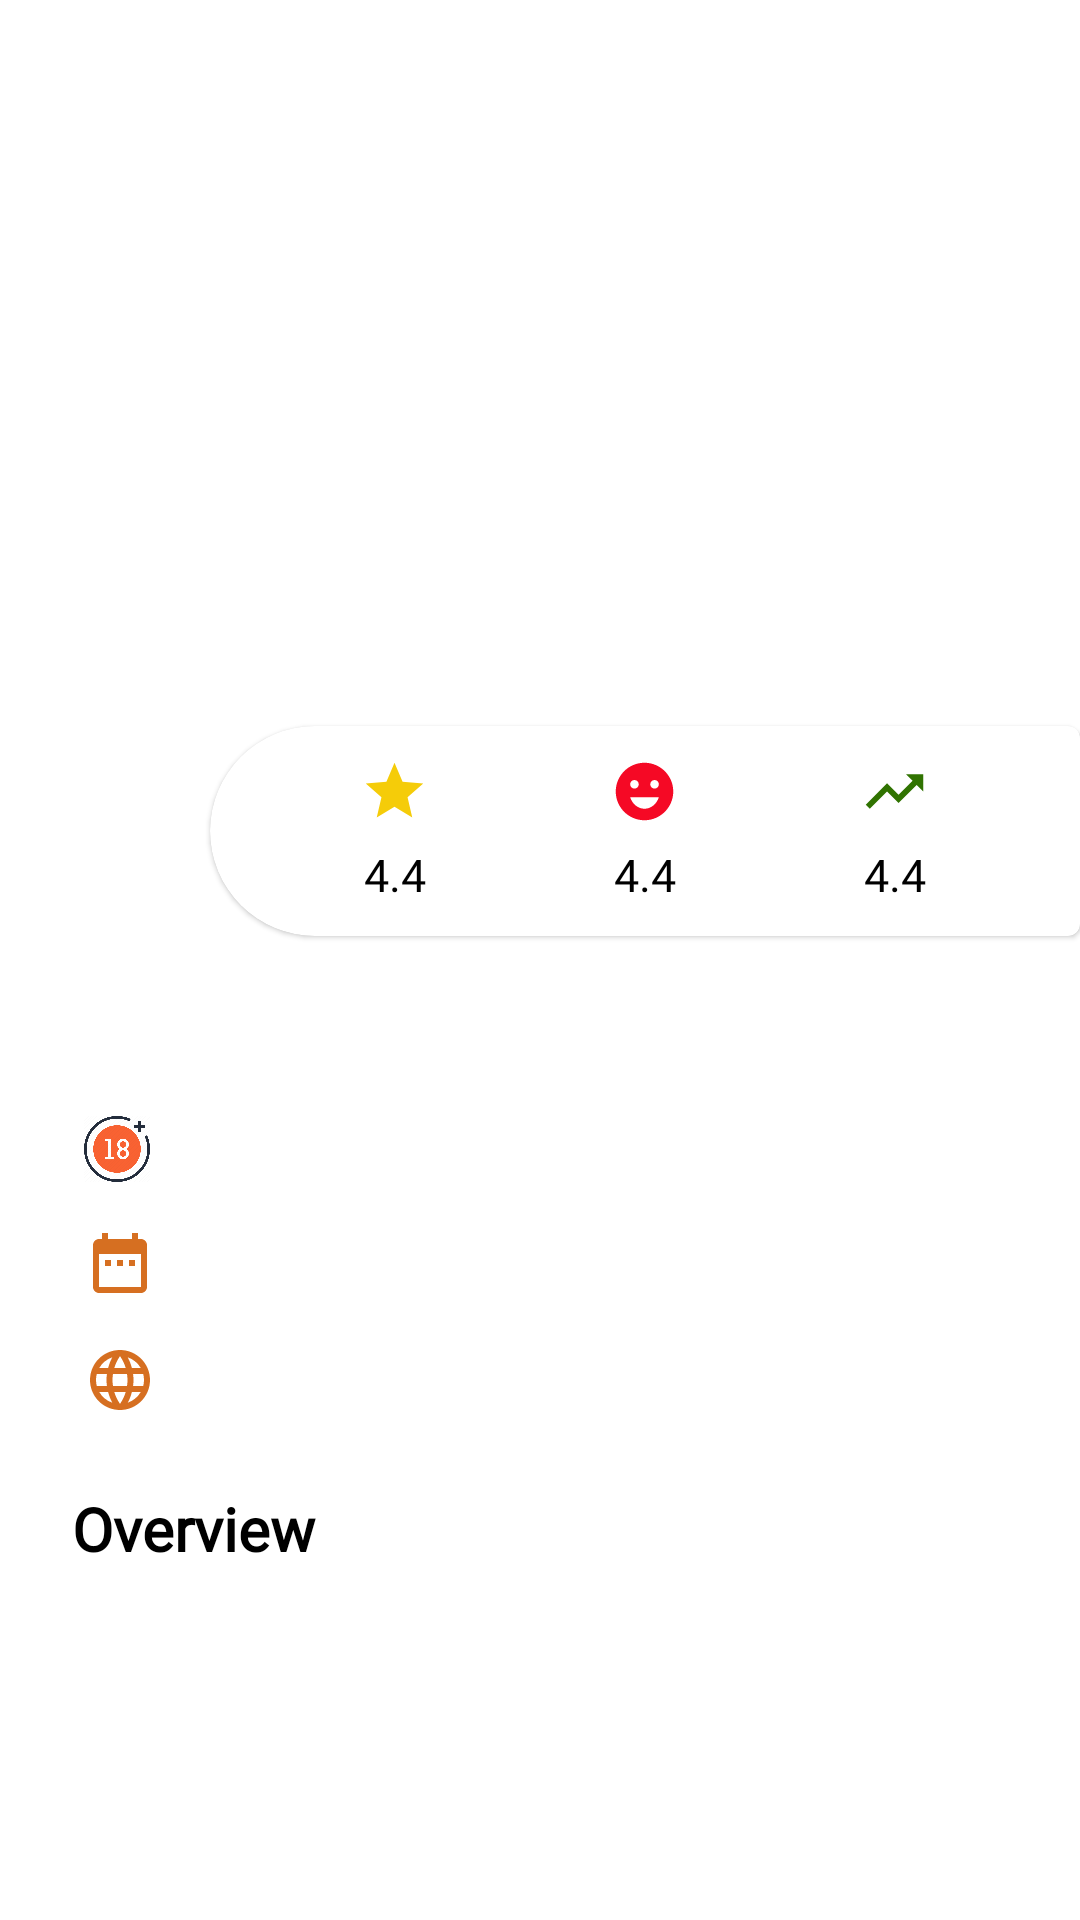

Icon bounding boxes for this 1080*1920 phone screenshot, format [x1,y1,x2,y2]:
adult: [84,1116,150,1182]
date range: [93,1233,147,1293]
language: [90,1350,150,1410]
smile: [615,762,674,821]
star: [366,763,423,817]
trending up: [866,774,924,809]
